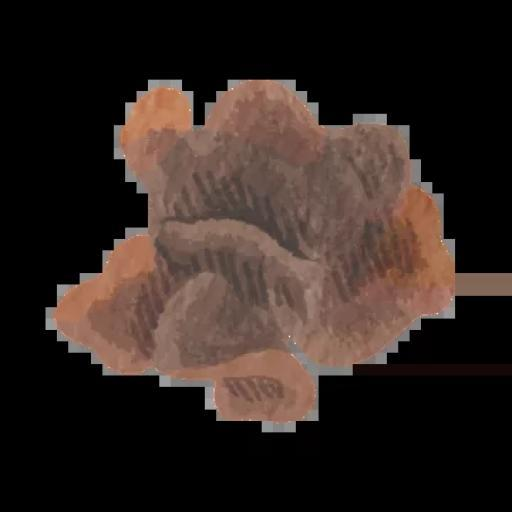mushroom: (53, 78, 472, 432)
